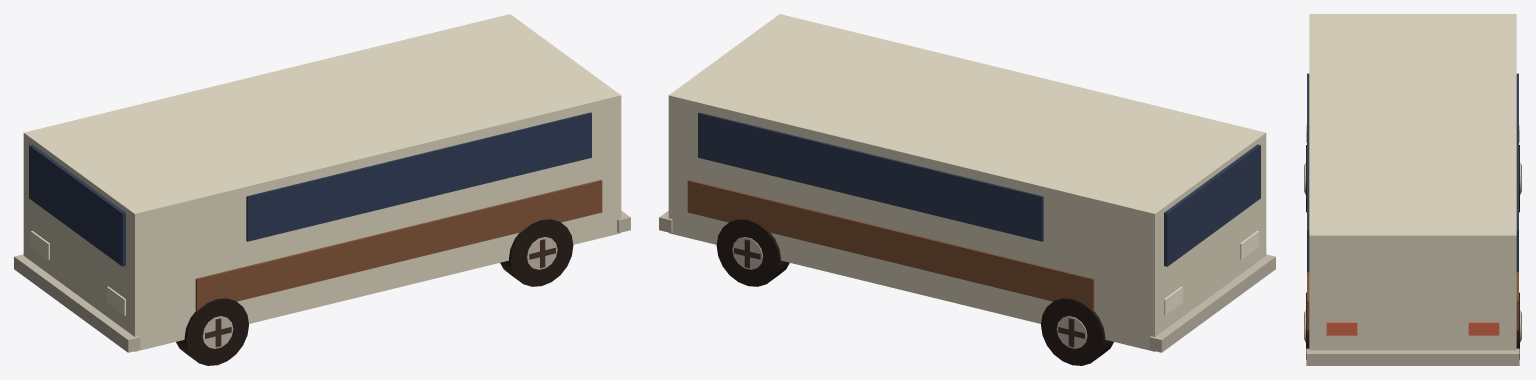
Rendered from van.glb.
The picture shows the model from 3 angles, left to right: view 1: azimuth 30°, elevation 25°; view 2: azimuth 150°, elevation 25°; view 3: azimuth 270°, elevation 25°; orthographic projection. The views are drawn at different scales.
Parts seen in each view (by area): view 1: Box1, Box3, Box2, Box4, Part8, Part6, Box5; view 2: Box1, Box3, Box2, Box4, Part4, Part2, Box5; view 3: Box1, Box6, Box3, Box8, Box10, Box2.
Boxes of the visible parts, x1,y1,x2,y2 form: Box1: (23,14,621,351); Box3: (246,112,591,241); Box2: (195,180,602,311); Box4: (29,144,125,266); Part8: (176,298,248,365); Part6: (500,219,573,286); Box5: (14,254,140,352); Box1: (668,14,1266,351); Box3: (698,112,1043,241); Box2: (687,180,1094,311); Box4: (1164,144,1260,266); Part4: (1041,298,1113,365); Part2: (716,219,789,286); Box5: (1149,254,1275,352); Box1: (1309,14,1516,350); Box6: (1306,348,1519,365); Box3: (1307,73,1518,272); Box8: (1468,322,1499,335); Box10: (1326,322,1357,335); Box2: (1307,272,1518,330).
Size of the model in its own units: 4.96 by 1.6 by 1.99.
